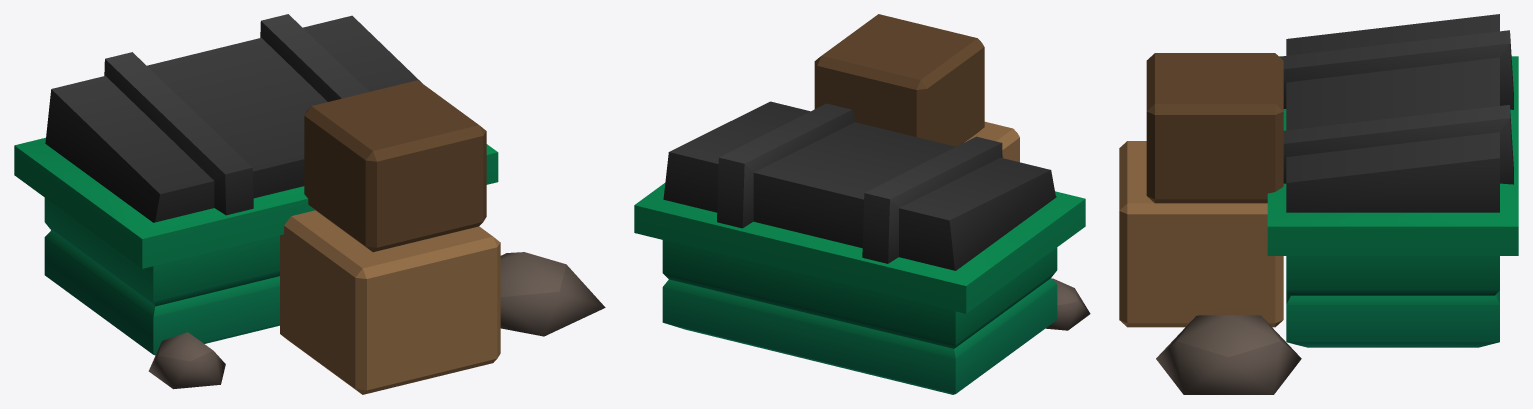
Rendered from decor_4.fbx.
The picture shows the model from 3 angles, left to right: view 1: azimuth 30°, elevation 25°; view 2: azimuth 150°, elevation 25°; view 3: azimuth 270°, elevation 25°; orthographic projection. The views are drawn at different scales.
Visible parts, largest first — view 1: decor_4; view 2: decor_4; view 3: decor_4.
Boxes of the visible parts, <box> form: decor_4: <box>14,14,605,394</box>; decor_4: <box>634,14,1090,394</box>; decor_4: <box>1119,14,1518,394</box>.
Bounding box in the file's own units: 1.74 × 0.9 × 1.46.
